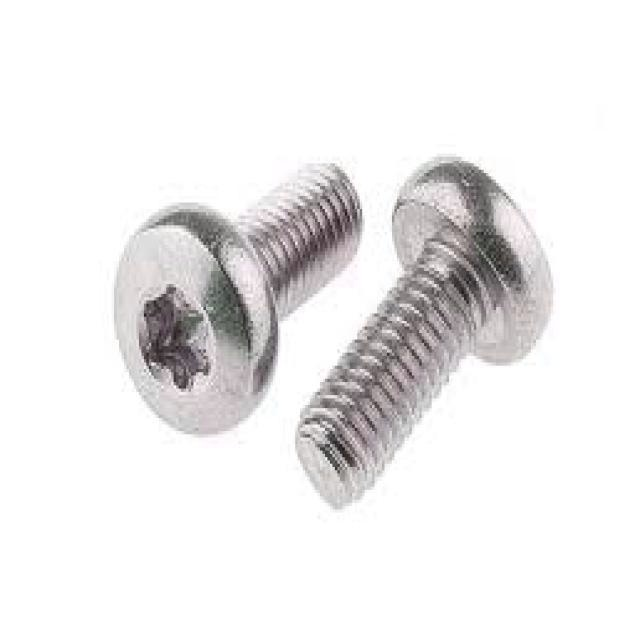torx: (111, 200, 279, 438)
